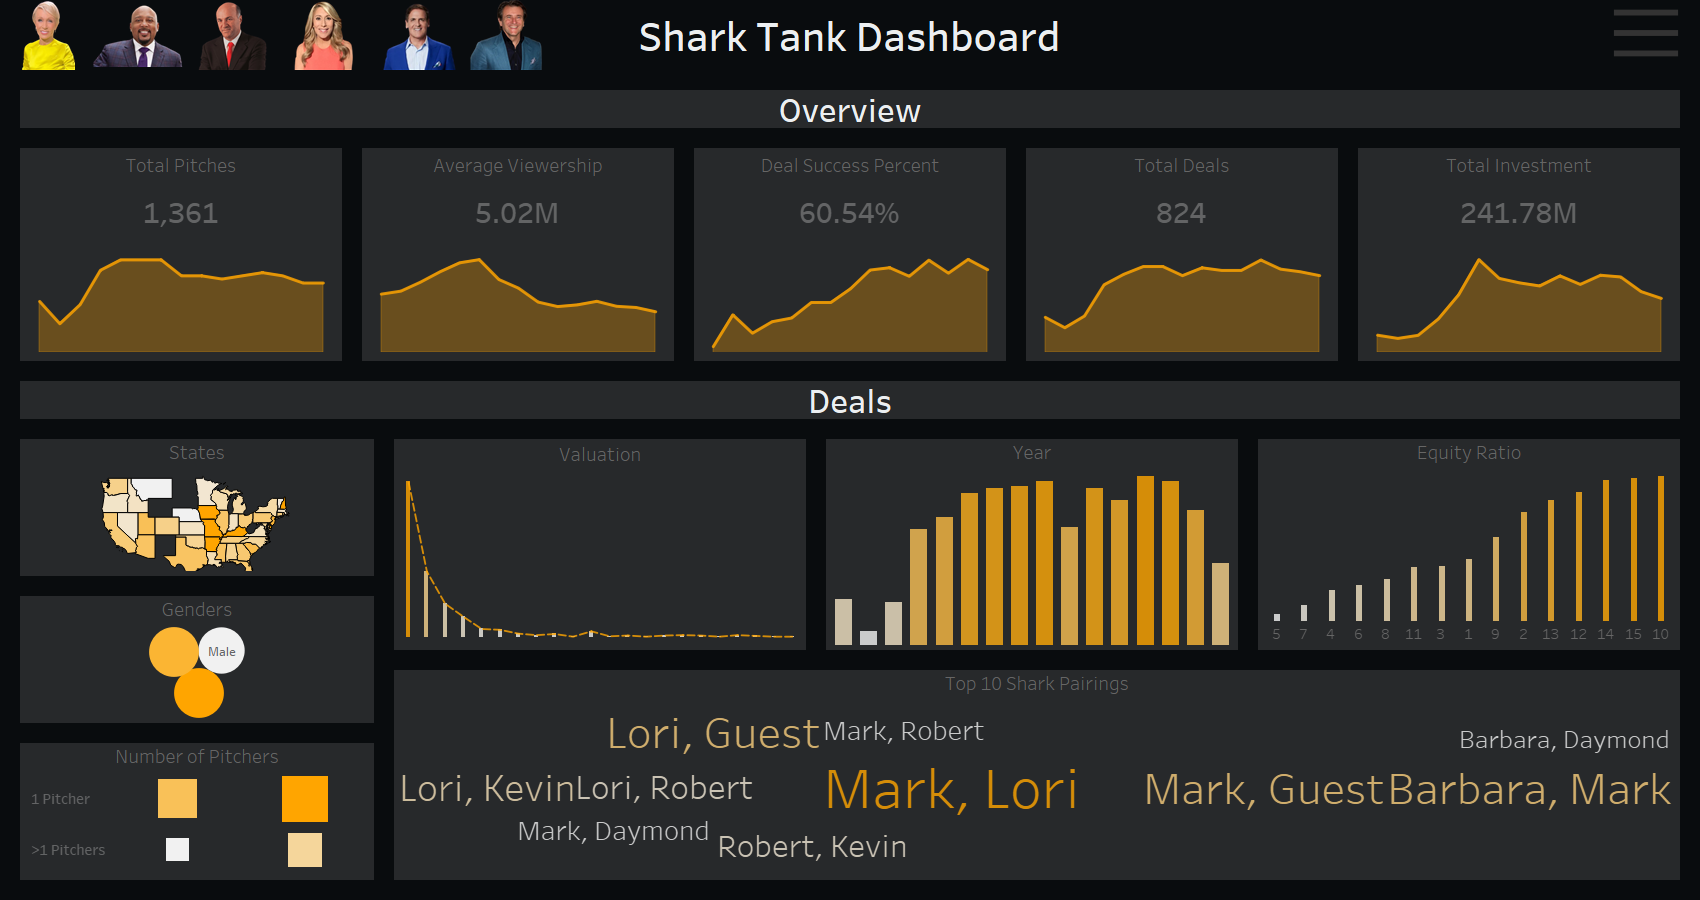

What the dashboard file says about the page in this screenshot:
{"tool":"tableau","page":{"name":"Main Dashboard","canvas":[1700,900],"ordinal":4},"visuals":[{"type":"image","param":"Image/Main Dashboard Figma Frame v2.png","box":[0,0,1700,900]},{"type":"dashboard-object","box":[0,0,93,70]},{"type":"dashboard-object","box":[93,0,93,70]},{"type":"dashboard-object","box":[186,0,92,70]},{"type":"dashboard-object","box":[278,0,92,70]},{"type":"dashboard-object","box":[370,0,92,70]},{"type":"dashboard-object","box":[462,0,92,70]},{"type":"text","box":[554,0,591,70]},{"type":"filter","title":"Total Pitches","param":"[federated.1ieom2h10l72pi1cs9e2u08v19sh].[none:season:ok]","box":[1145,0,153,70]},{"type":"blank","box":[1145,0,97,70]},{"type":"filter","title":"Total Pitches","param":"[federated.1ieom2h10l72pi1cs9e2u08v19sh].[none:deal_valuation:qk]","box":[1298,0,153,70]},{"type":"filter","title":"Total Pitches","param":"[federated.1ieom2h10l72pi1cs9e2u08v19sh].[none:industry:nk]","box":[1451,0,152,70]},{"type":"text","box":[0,70,1700,78]},{"type":"text","box":[20,148,322,33]},{"type":"text","box":[362,148,312,33]},{"type":"text","box":[694,148,312,33]},{"type":"text","box":[1026,148,312,33]},{"type":"text","box":[1358,148,322,33]},{"type":"worksheet","title":"BAN Total Pitches","mark":"Text","box":[20,181,322,63]},{"type":"worksheet","title":"BAN Avg Viewership","mark":"Text","box":[362,181,312,63]},{"type":"worksheet","title":"BAN Success Percent","mark":"Text","box":[694,181,312,63]},{"type":"worksheet","title":"BAN Total Deals","mark":"Text","box":[1026,181,312,63]},{"type":"worksheet","title":"BAN Total Investment Raised","mark":"Text","box":[1358,181,322,63]},{"type":"worksheet","title":"Total Pitches","mark":"Line","rows":["data_1A36516F31B94259A03002EB3918A69C","data_1A36516F31B94259A03002EB3918A69C"],"cols":["season"],"box":[20,244,322,117]},{"type":"worksheet","title":"Average Viewership","mark":"Area","rows":["viewers","viewers"],"cols":["season"],"box":[362,244,312,117]},{"type":"worksheet","title":"Average Success Percent","mark":"Area","rows":["Calculation_2397322443182063616","Calculation_2397322443182063616"],"cols":["season"],"box":[694,244,312,117]},{"type":"worksheet","title":"Total Deals","mark":"Line","rows":["Deal (copy)_2397322443185983489","Deal (copy)_2397322443185983489"],"cols":["season"],"box":[1026,244,312,117]},{"type":"worksheet","title":"Total Investment Raised","mark":"Area","rows":["deal_amount","deal_amount"],"cols":["season"],"box":[1358,244,322,117]},{"type":"text","box":[0,361,1700,78]},{"type":"text","box":[20,439,354,25]},{"type":"text","box":[394,439,412,29]},{"type":"text","box":[826,439,412,25]},{"type":"text","box":[1258,439,422,25]},{"type":"worksheet","title":"Deals By States","mark":"Multipolygon","box":[20,464,354,112]},{"type":"worksheet","title":"Deals by Year","mark":"Bar","rows":["Deal (copy)_2397322443185983489"],"cols":["air_date"],"box":[826,464,412,186]},{"type":"worksheet","title":"Offered:Deal Equity Ratio by Season","mark":"Bar","rows":["Calculation_2397322443195224066"],"cols":["season"],"box":[1258,464,422,186]},{"type":"worksheet","title":"Mode Valuation of Deals (M)","mark":"Bar","rows":["data_1A36516F31B94259A03002EB3918A69C","data_1A36516F31B94259A03002EB3918A69C"],"cols":["Deal Valuation (bin)"],"box":[394,468,412,182]},{"type":"text","box":[20,596,354,25]},{"type":"worksheet","title":"Success Percent by Pitch Gender","mark":"Circle","box":[20,621,354,102]},{"type":"text","box":[394,670,1286,25]},{"type":"worksheet","title":"Most Common Shark Pairs","mark":"Text","box":[394,695,1286,185]},{"type":"text","box":[20,743,354,25]},{"type":"worksheet","title":"Success Percent by Number of Pitchers","mark":"Automatic","rows":["multi_pitcher"],"cols":["deal"],"box":[20,768,354,112]}]}

Visuals, with their boxes in screenshot pixels (x1, y1, x2, y2), scaled from the page's 1700x900 canvas onto the 1700x900 screenshot:
image: BBox(0, 0, 1699, 899)
dashboard-object: BBox(0, 0, 93, 70)
dashboard-object: BBox(93, 0, 186, 70)
dashboard-object: BBox(186, 0, 278, 70)
dashboard-object: BBox(278, 0, 370, 70)
dashboard-object: BBox(370, 0, 462, 70)
dashboard-object: BBox(462, 0, 554, 70)
text: BBox(554, 0, 1145, 70)
"Total Pitches" filter: BBox(1145, 0, 1298, 70)
blank: BBox(1145, 0, 1242, 70)
"Total Pitches" filter: BBox(1298, 0, 1451, 70)
"Total Pitches" filter: BBox(1451, 0, 1603, 70)
text: BBox(0, 70, 1699, 148)
text: BBox(20, 148, 342, 181)
text: BBox(362, 148, 674, 181)
text: BBox(694, 148, 1006, 181)
text: BBox(1026, 148, 1338, 181)
text: BBox(1358, 148, 1680, 181)
"BAN Total Pitches" worksheet (Text marks): BBox(20, 181, 342, 244)
"BAN Avg Viewership" worksheet (Text marks): BBox(362, 181, 674, 244)
"BAN Success Percent" worksheet (Text marks): BBox(694, 181, 1006, 244)
"BAN Total Deals" worksheet (Text marks): BBox(1026, 181, 1338, 244)
"BAN Total Investment Raised" worksheet (Text marks): BBox(1358, 181, 1680, 244)
"Total Pitches" worksheet (Line marks): BBox(20, 244, 342, 361)
"Average Viewership" worksheet (Area marks): BBox(362, 244, 674, 361)
"Average Success Percent" worksheet (Area marks): BBox(694, 244, 1006, 361)
"Total Deals" worksheet (Line marks): BBox(1026, 244, 1338, 361)
"Total Investment Raised" worksheet (Area marks): BBox(1358, 244, 1680, 361)
text: BBox(0, 361, 1699, 439)
text: BBox(20, 439, 374, 464)
text: BBox(394, 439, 806, 468)
text: BBox(826, 439, 1238, 464)
text: BBox(1258, 439, 1680, 464)
"Deals By States" worksheet (Multipolygon marks): BBox(20, 464, 374, 576)
"Deals by Year" worksheet (Bar marks): BBox(826, 464, 1238, 650)
"Offered:Deal Equity Ratio by Season" worksheet (Bar marks): BBox(1258, 464, 1680, 650)
"Mode Valuation of Deals (M)" worksheet (Bar marks): BBox(394, 468, 806, 650)
text: BBox(20, 596, 374, 621)
"Success Percent by Pitch Gender" worksheet (Circle marks): BBox(20, 621, 374, 723)
text: BBox(394, 670, 1680, 695)
"Most Common Shark Pairs" worksheet (Text marks): BBox(394, 695, 1680, 880)
text: BBox(20, 743, 374, 768)
"Success Percent by Number of Pitchers" worksheet: BBox(20, 768, 374, 880)
